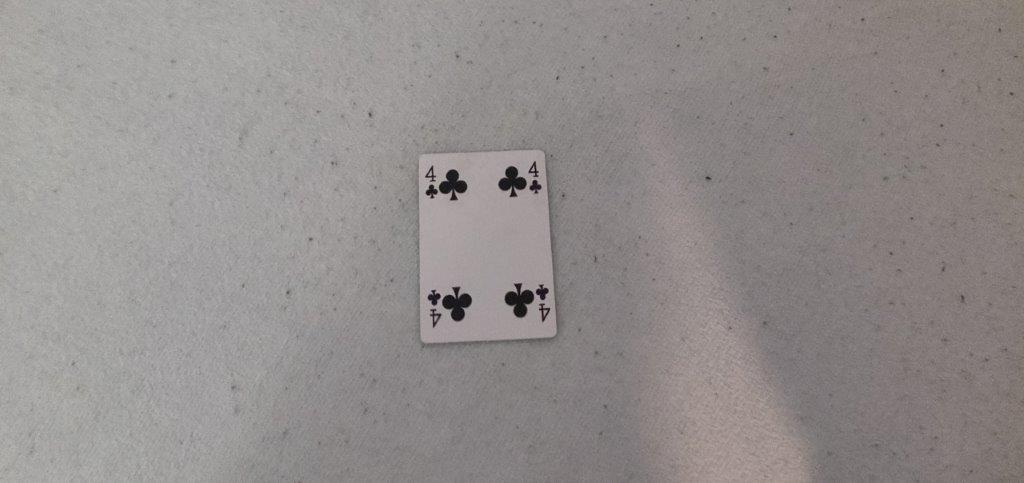4C: (526, 158, 546, 201), (422, 164, 441, 203)
